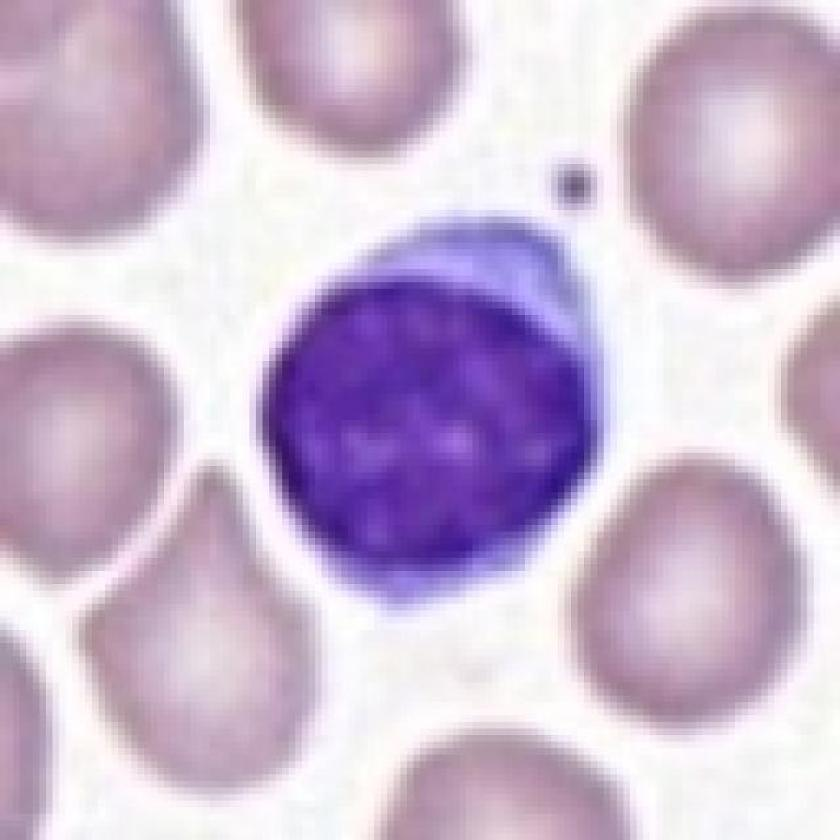lymphocyte: (251, 206, 613, 618)
